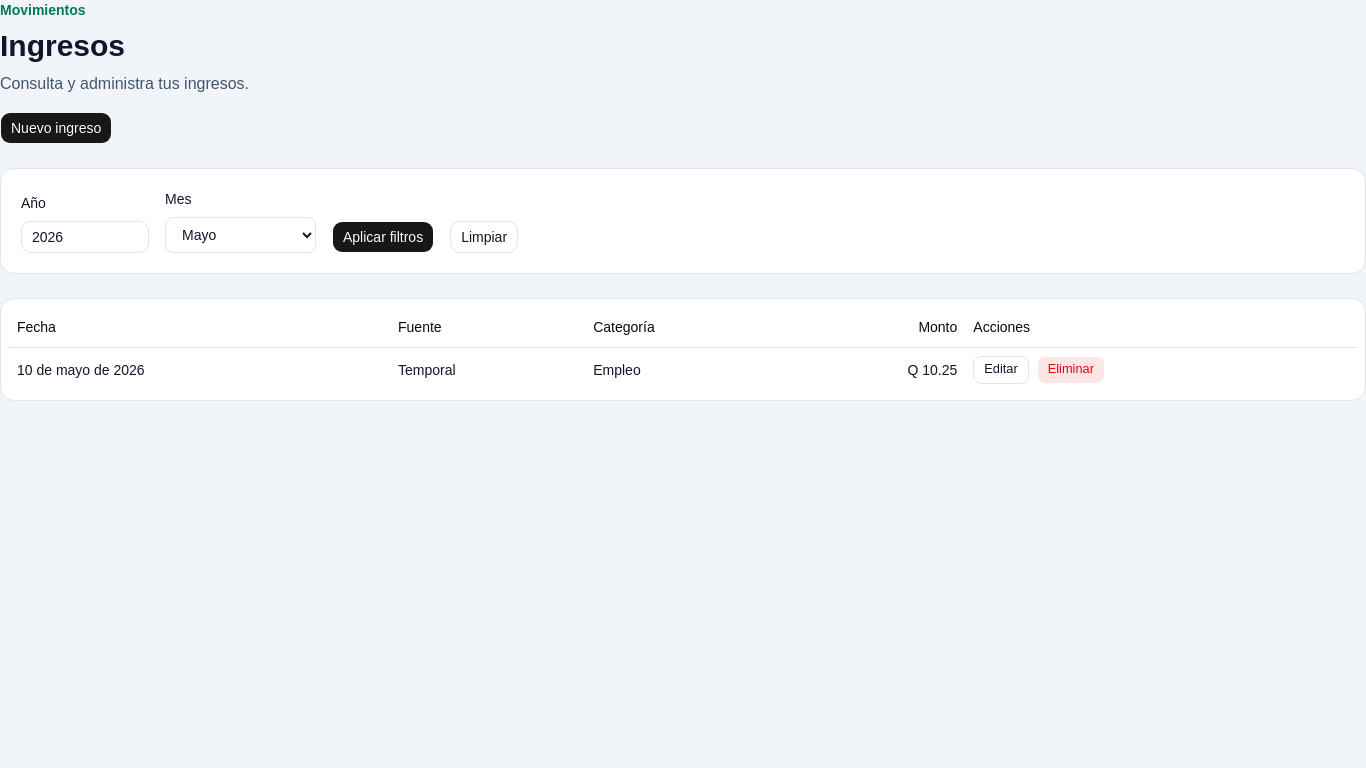
Test: Listado de ingresos › usa el periodo de la URL y exige confirmar antes de eliminar
Check: the text "Temporal" is shown, box left=390, top=347, right=585, bottom=392
Click the button with aria-label "Eliminar Temporal".
click(1071, 370)  # box left=1037, top=356, right=1105, bottom=384
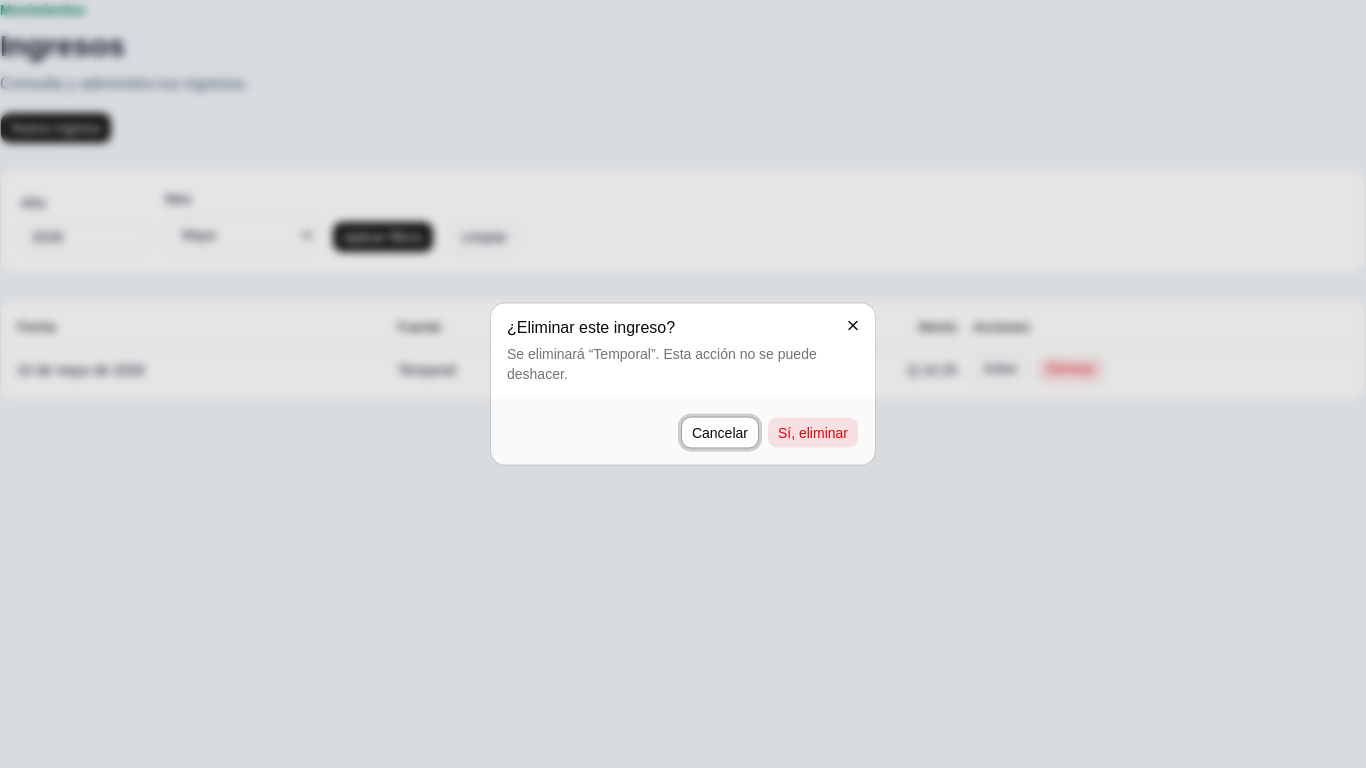
Click the button "Cancelar".
click(720, 432)  # box left=681, top=416, right=759, bottom=448
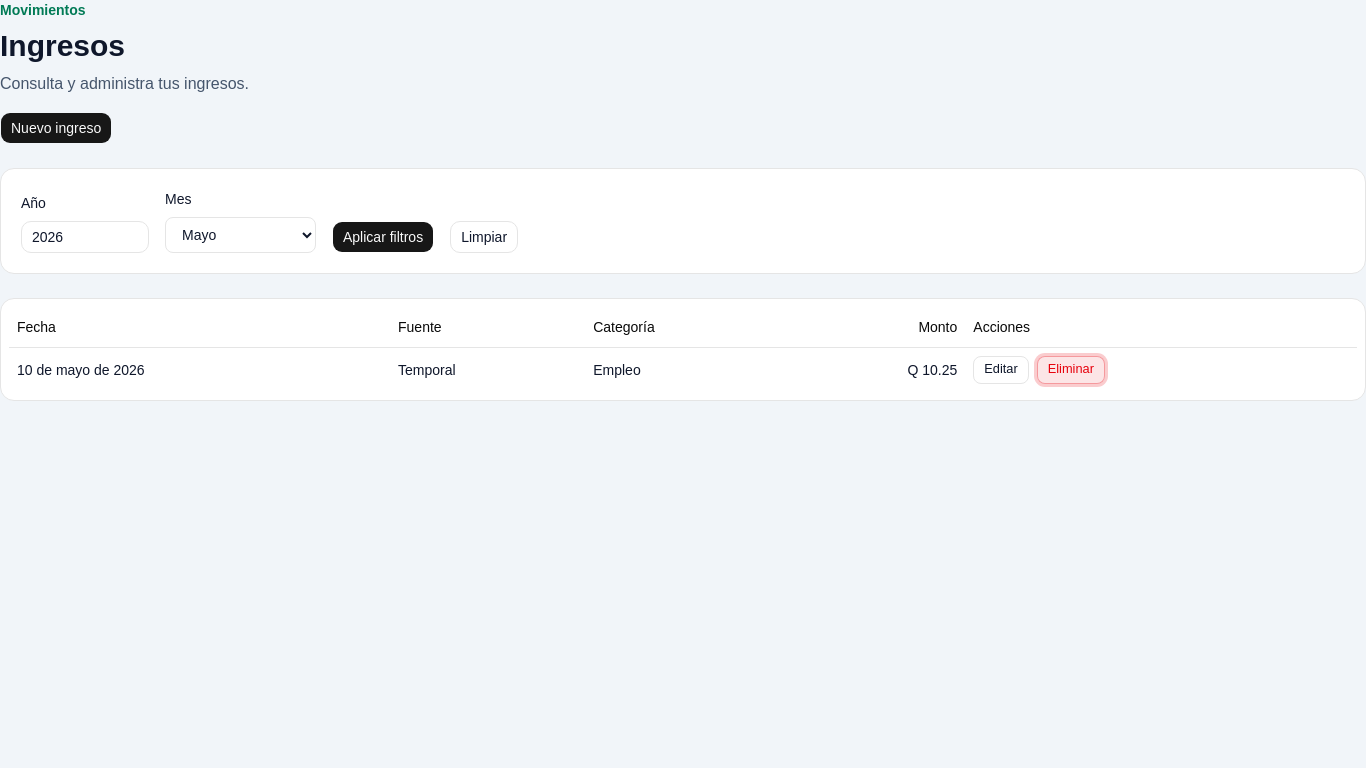
Click the button with aria-label "Eliminar Temporal".
click(1071, 370)  # box left=1037, top=356, right=1105, bottom=384
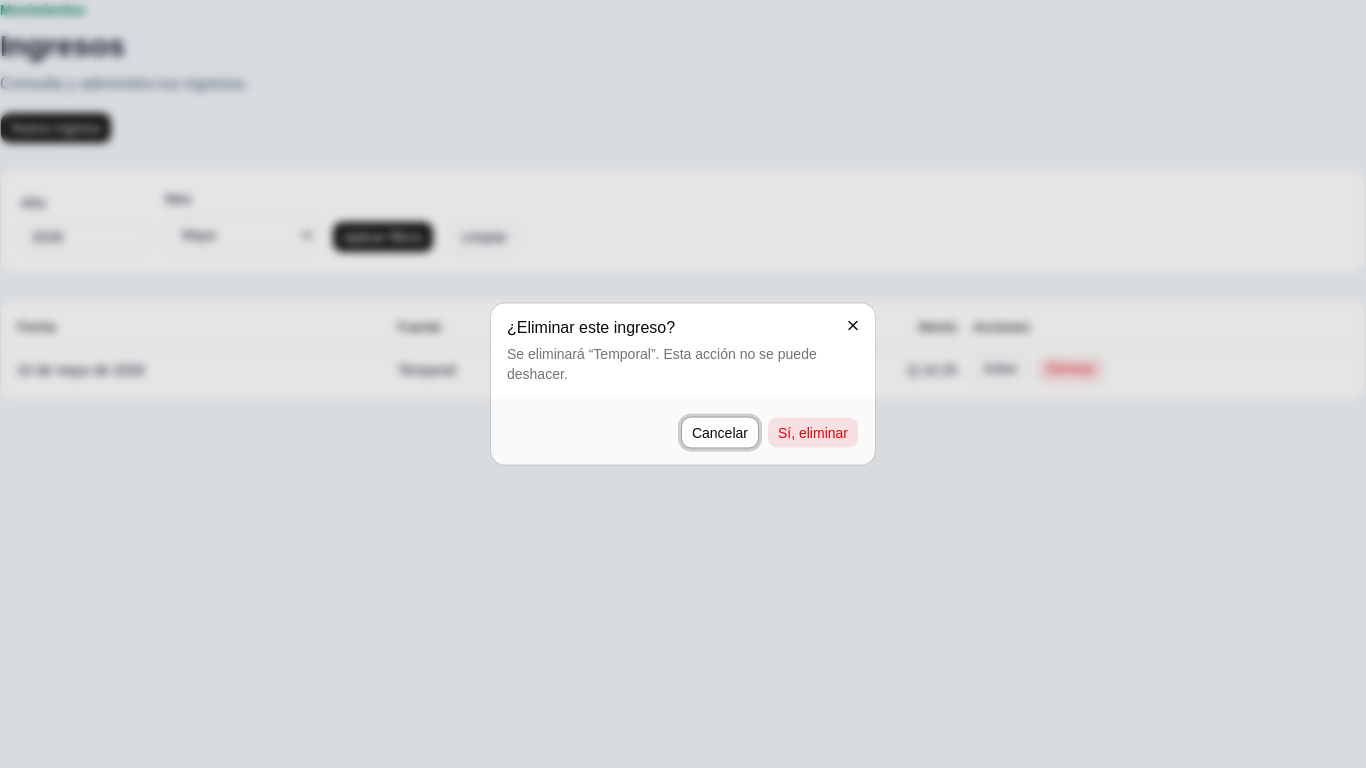
Click the button "Sí, eliminar".
click(813, 432)  # box left=767, top=416, right=859, bottom=448
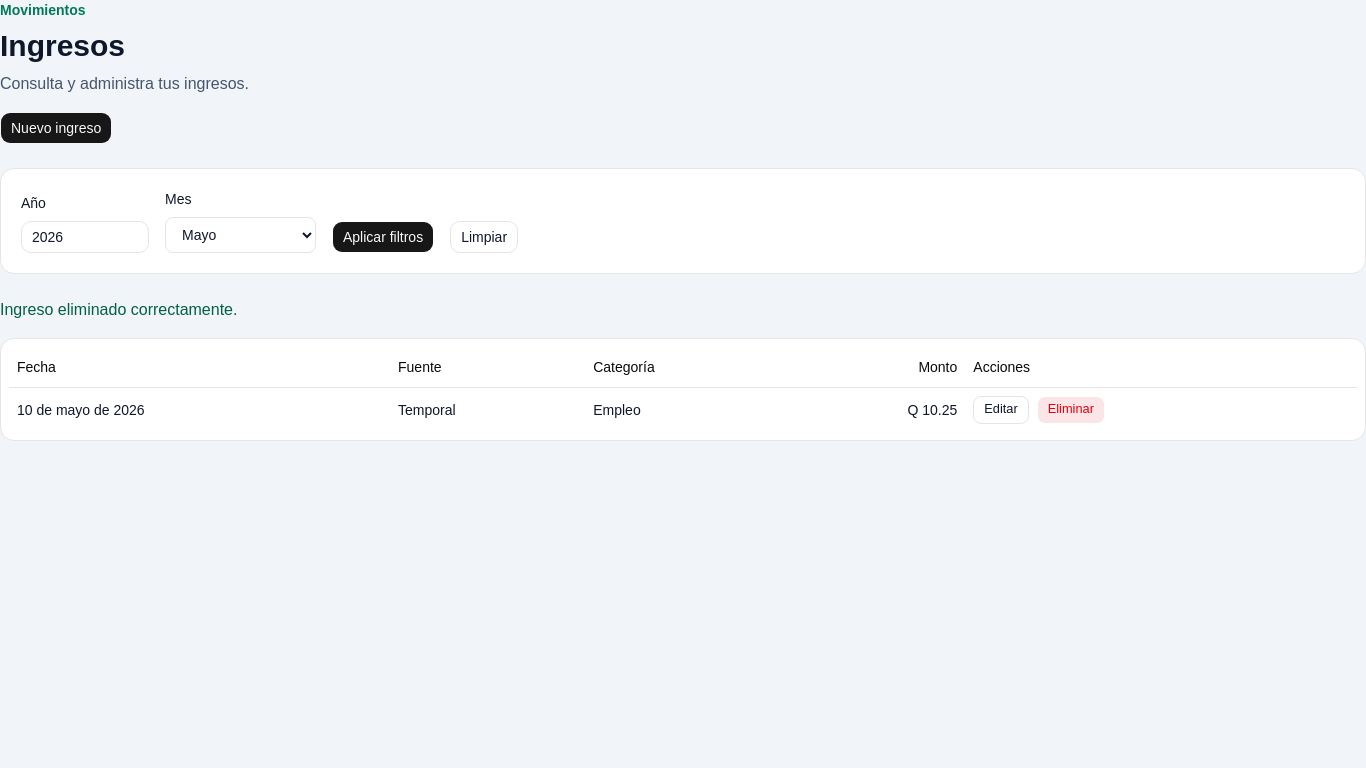
Check: the text "Ingreso eliminado correctamente." is shown, box left=0, top=301, right=238, bottom=318
